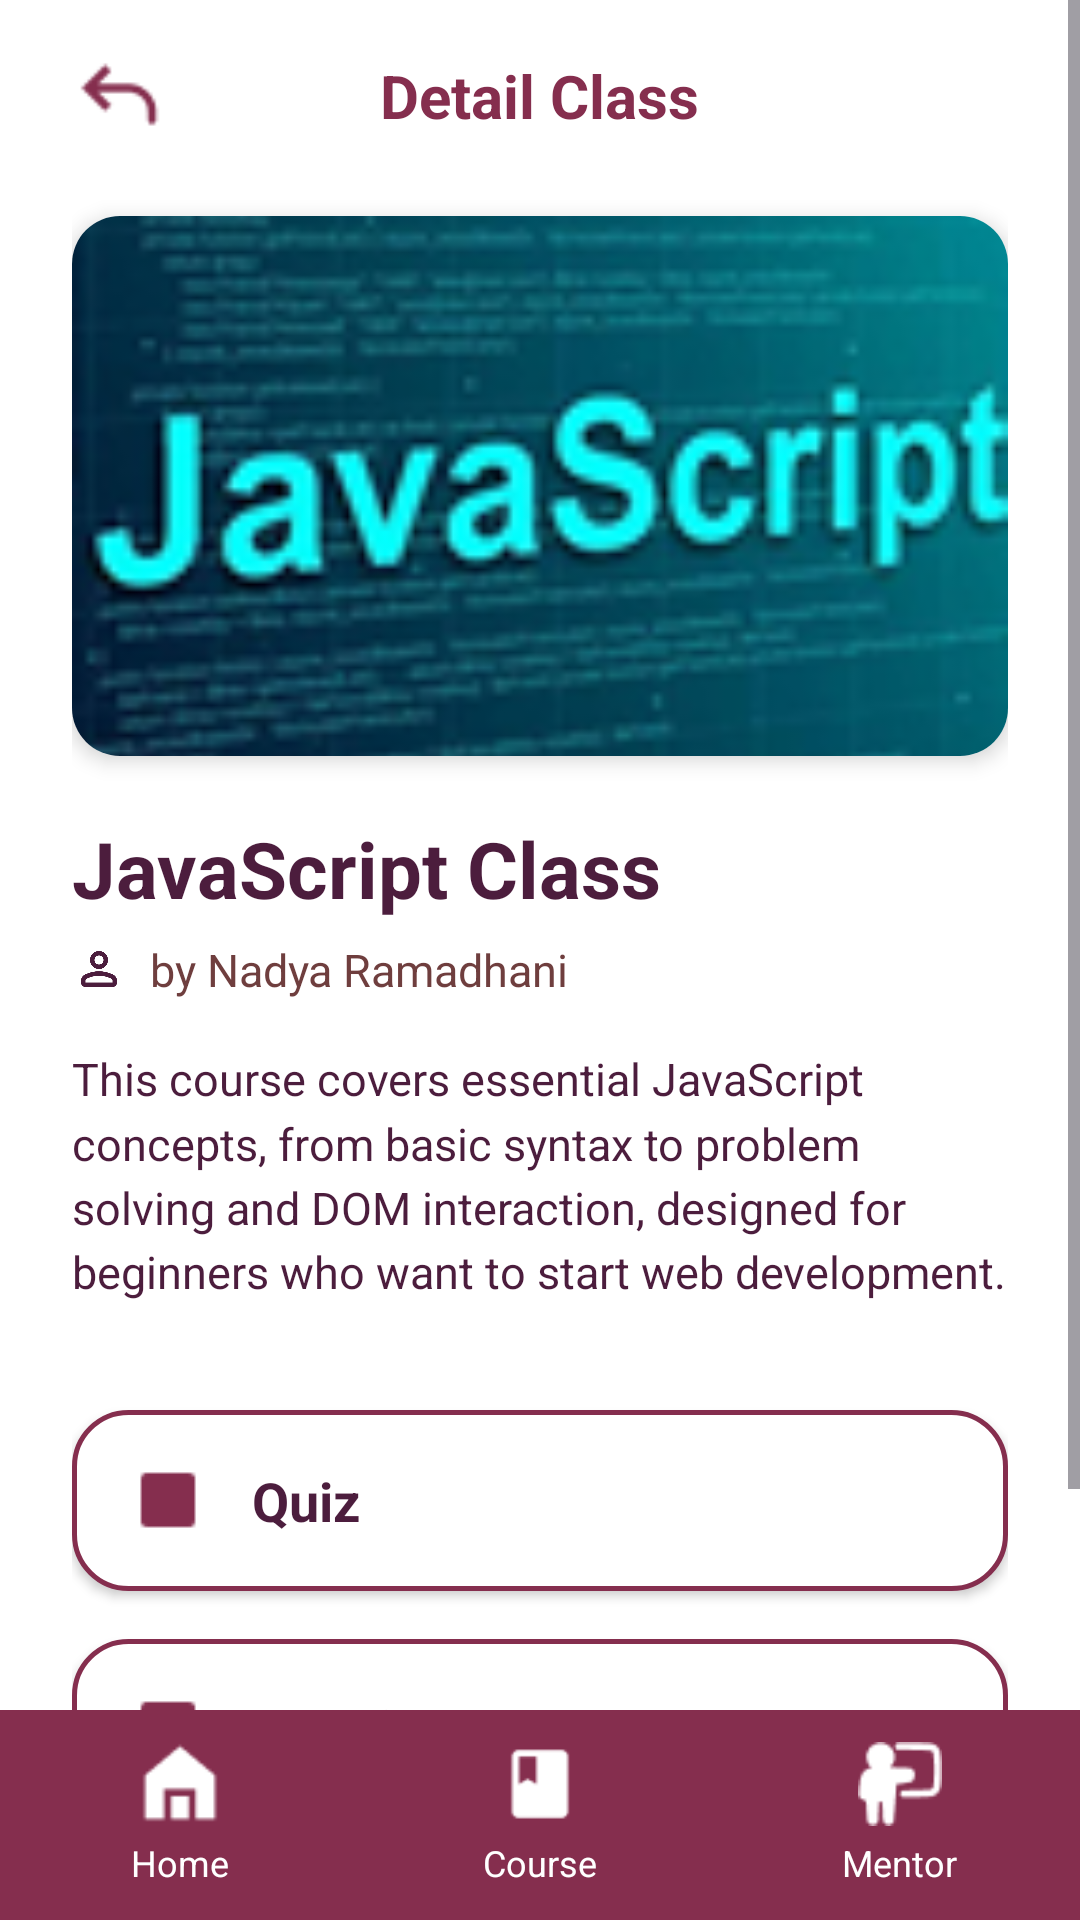

Locate icon controls on the screen. Image size 1080x1920, boxes as BBox(x1, y1, x2, y2).
back: BBox(81, 63, 159, 126)
